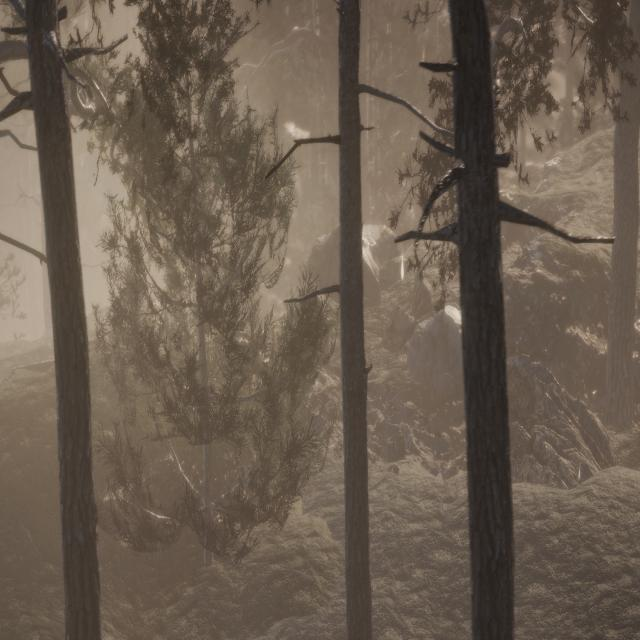Human: (317, 301, 334, 366)
